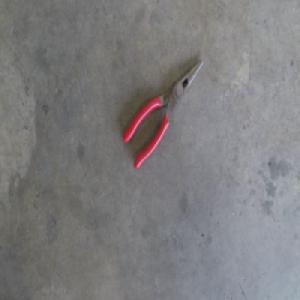Pliers: (122, 59, 204, 173)
